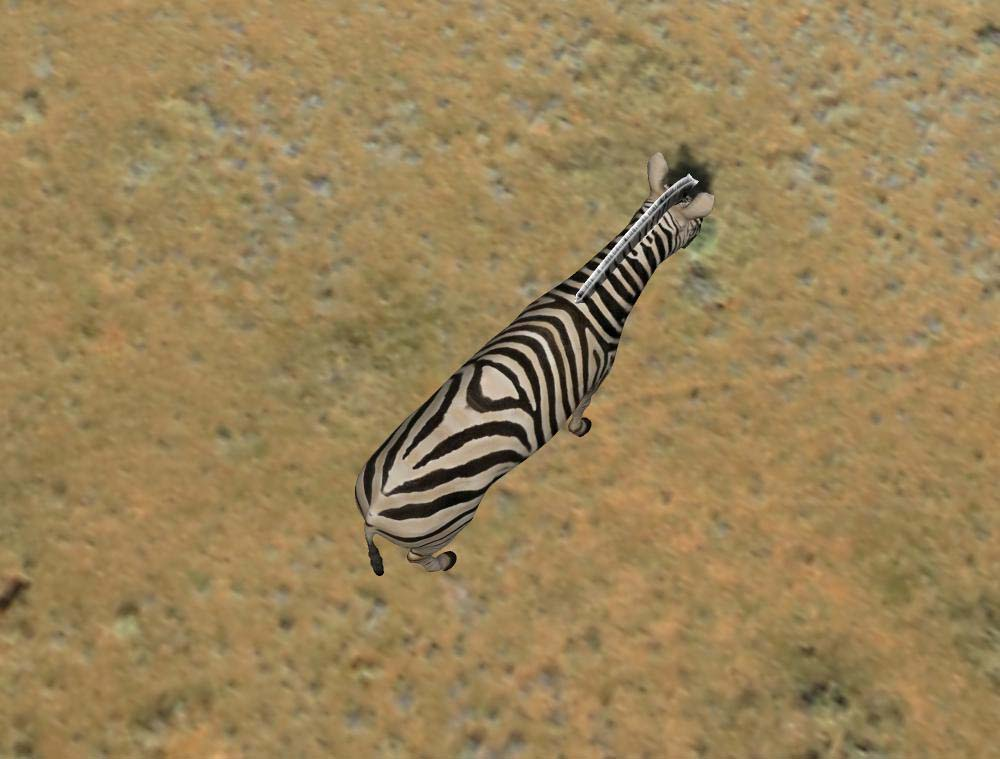zebra: (355, 148, 710, 575)
